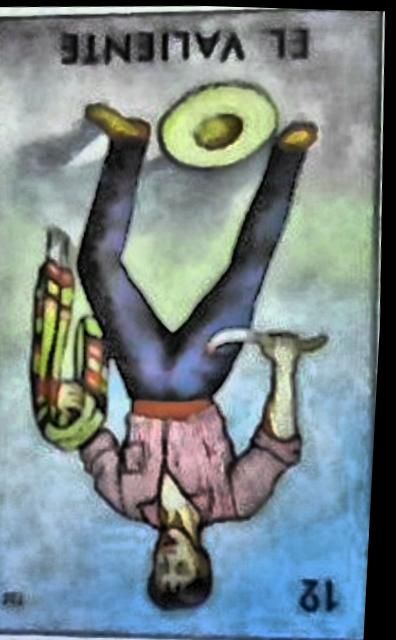El Valiente: (0, 8, 396, 640)
